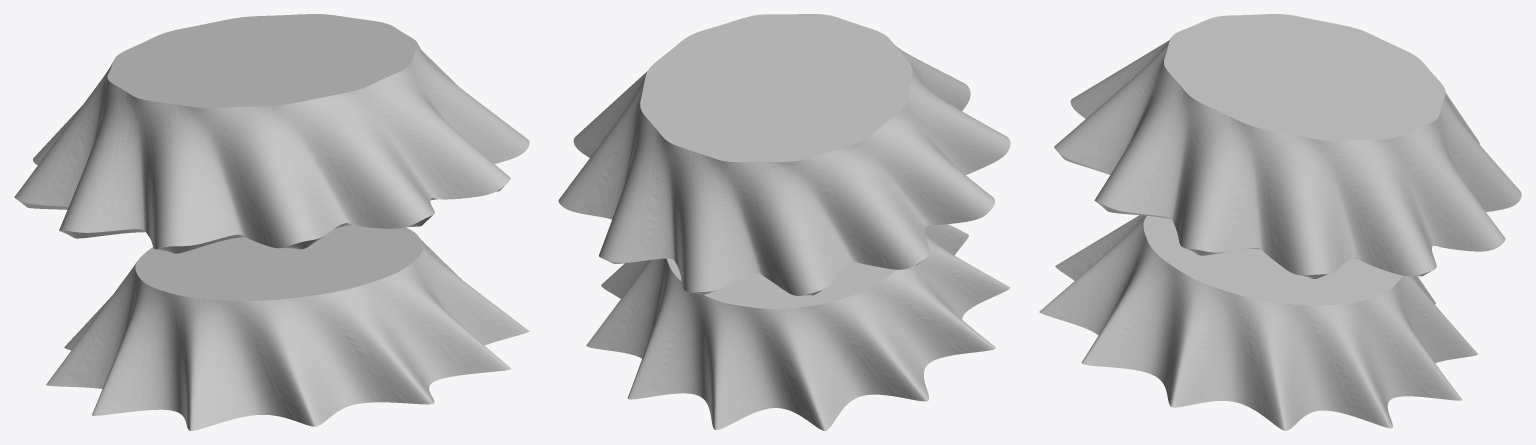
The model's file is doilybowl mold all.glb.
The picture shows the model from 3 angles, left to right: view 1: azimuth 30°, elevation 25°; view 2: azimuth 150°, elevation 25°; view 3: azimuth 270°, elevation 25°; orthographic projection. The views are drawn at different scales.
Parts seen in each view (by area): view 1: node_id3; view 2: node_id3; view 3: node_id3.
Part boxes in pixels (x1,y1,x2,y2): node_id3: [14, 14, 529, 430]; node_id3: [558, 14, 1010, 430]; node_id3: [1039, 14, 1521, 430].
Bounding box in the file's own units: 0.5091 × 0.3663 × 0.5183.
Materials: 1 (1 with a texture image).
